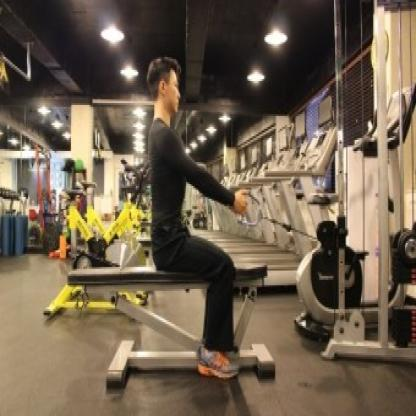Seated Cable Rows: (73, 49, 414, 416)
